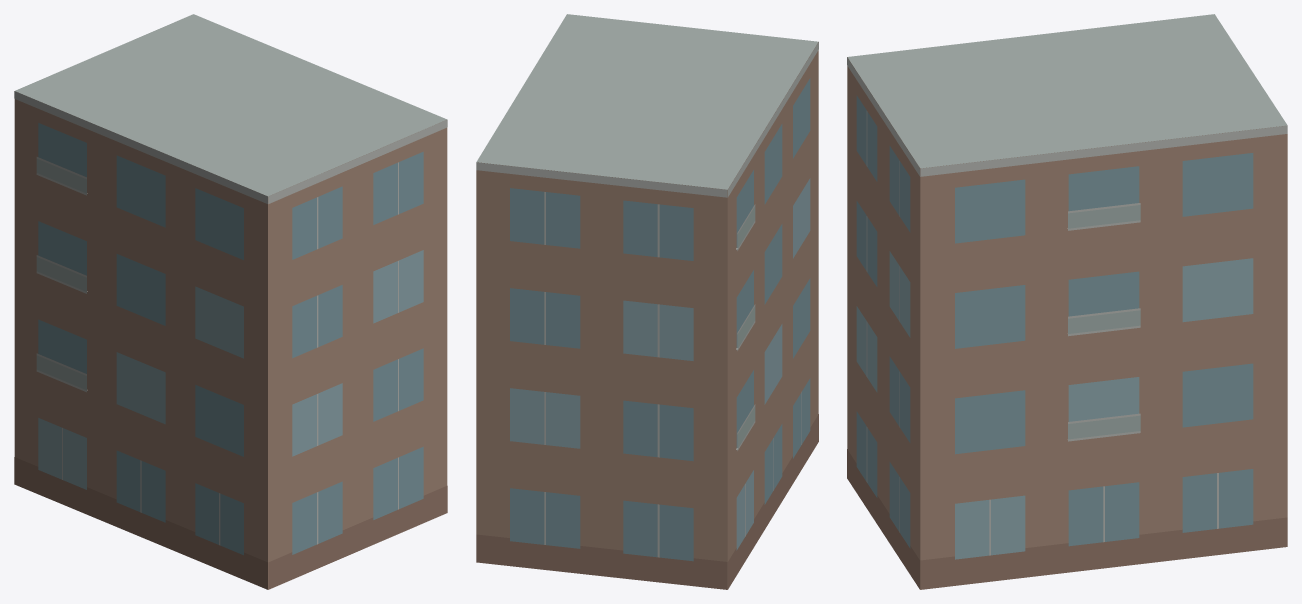
Rendered from residential-79feea8e-06f7-4030-8e8f-f4999cdd9f60.glb.
3 views of the same model, side by side, from view 1: azimuth 30°, elevation 25°; view 2: azimuth 150°, elevation 25°; view 3: azimuth 270°, elevation 25° (orthographic). The views are drawn at different scales.
Parts seen in each view (by area): view 1: residential-79feea8e-06f7-4030-8e8f-f4999cdd9f60.tmp; view 2: residential-79feea8e-06f7-4030-8e8f-f4999cdd9f60.tmp; view 3: residential-79feea8e-06f7-4030-8e8f-f4999cdd9f60.tmp.
Part boxes in pixels (x1,y1,x2,y2): residential-79feea8e-06f7-4030-8e8f-f4999cdd9f60.tmp: (14, 14, 447, 589); residential-79feea8e-06f7-4030-8e8f-f4999cdd9f60.tmp: (476, 14, 818, 589); residential-79feea8e-06f7-4030-8e8f-f4999cdd9f60.tmp: (847, 14, 1287, 589).
Bounding box in the file's own units: 9.6 × 12.2 × 11.57.
